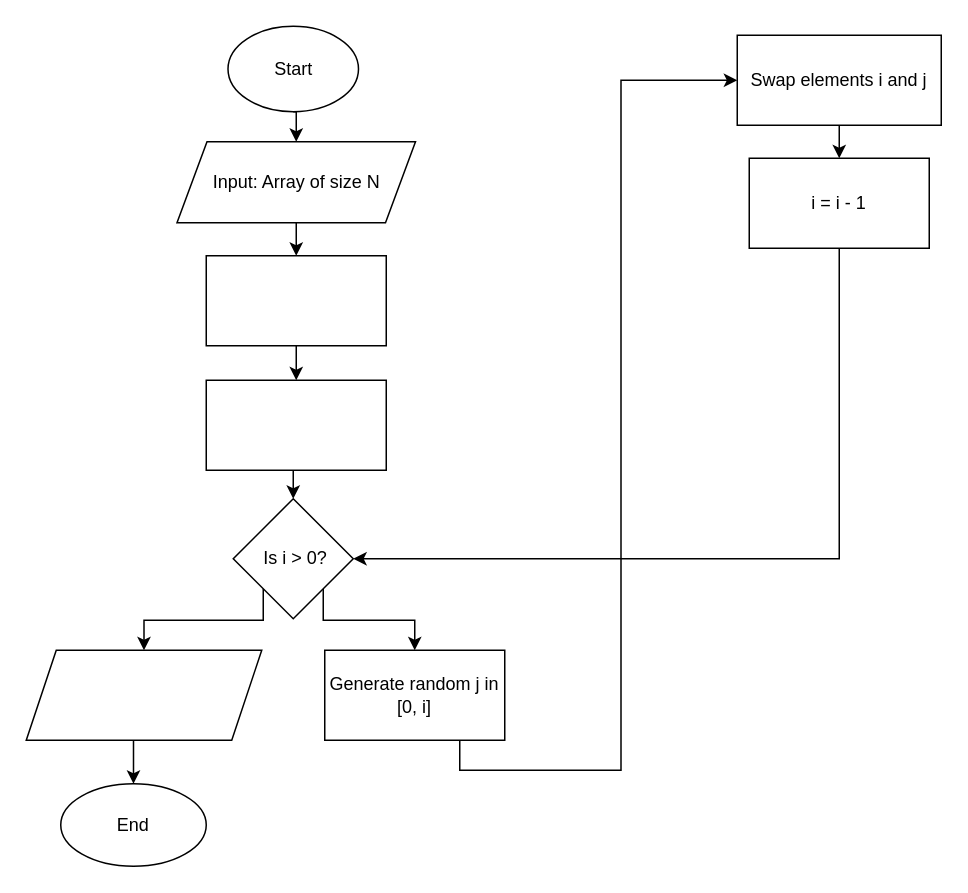
Image size: 968x893. Some labels were removed from this diagram. Here are the shapes that lost their labels. From the top down, the centre of each, then its label:
At (x=295, y=300): "Copy array to arrayShuffled".
At (x=295, y=424): "Set i = n - 1".
At (x=143, y=694): "Return arrayShuffled".
